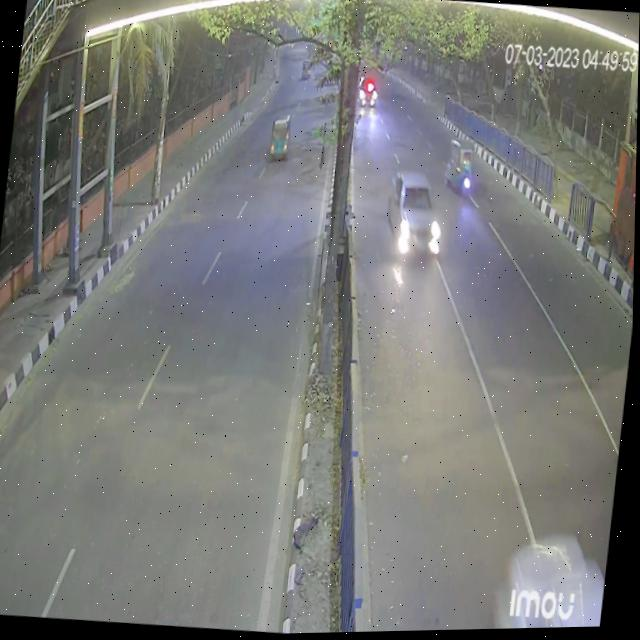cng: (440, 135, 478, 202), (266, 115, 296, 167)
